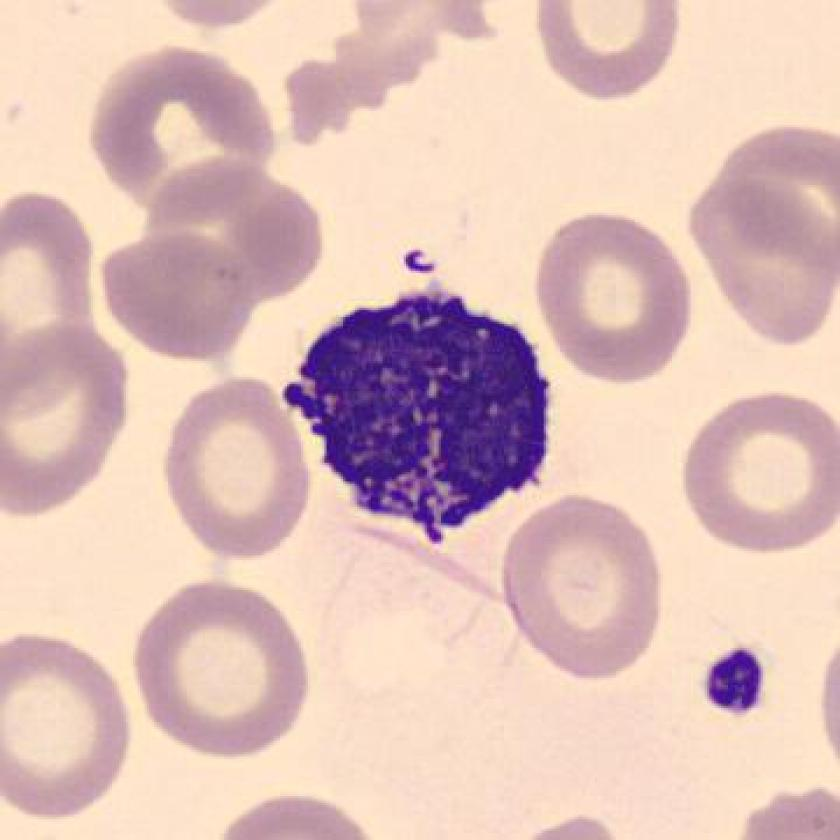basophil: (288, 290, 559, 545)
